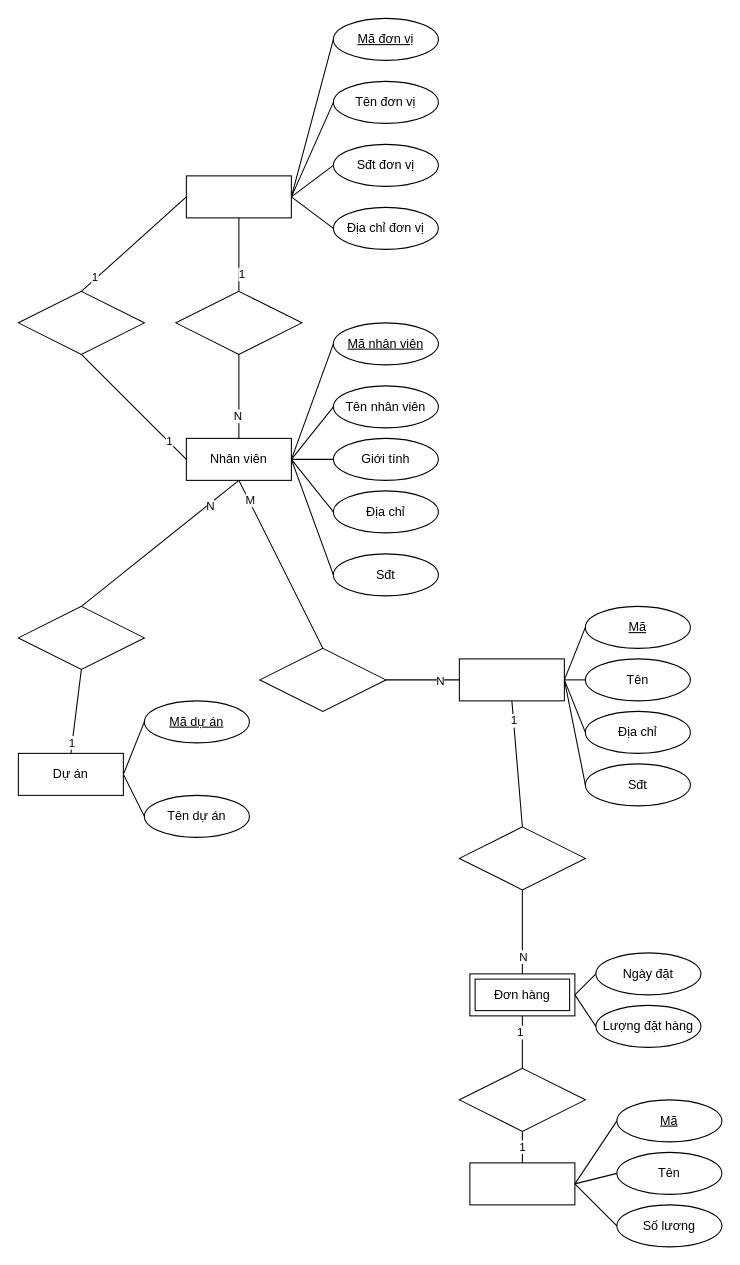
This 740x1265 diagram has some shape labels left out. Here are the shapes that lost their labels. From the top down, the centre of each, then its label:
the point at 238,196: Đơn vị
the point at 80,322: Quản lý
the point at 238,322: Thuê
the point at 80,637: Làm
the point at 322,679: Phục vụ
the point at 511,679: Khách hàng
the point at 521,858: Mua
the point at 521,1099: Chứa
the point at 522,1183: Mặt hàng
